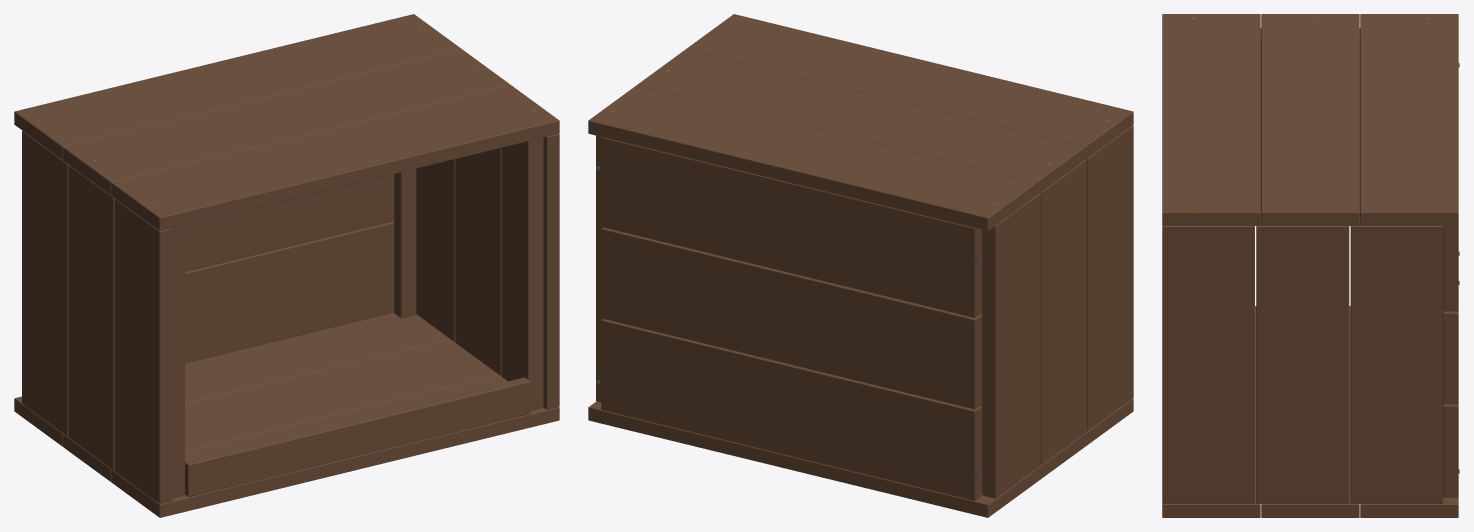
File: crate-shelf-wall-b8dd8af19706.glb
3 views of the same model, side by side, from view 1: azimuth 30°, elevation 25°; view 2: azimuth 150°, elevation 25°; view 3: azimuth 270°, elevation 25° (orthographic).
Visible parts, largest first — view 1: wood-workshop; view 2: wood-workshop; view 3: wood-workshop.
Boxes of the visible parts, x1,y1,x2,y2 form: wood-workshop: (14, 14, 559, 517); wood-workshop: (588, 14, 1133, 517); wood-workshop: (1162, 14, 1458, 517).
Bounding box in the file's own units: 0.46 × 0.33 × 0.291.
